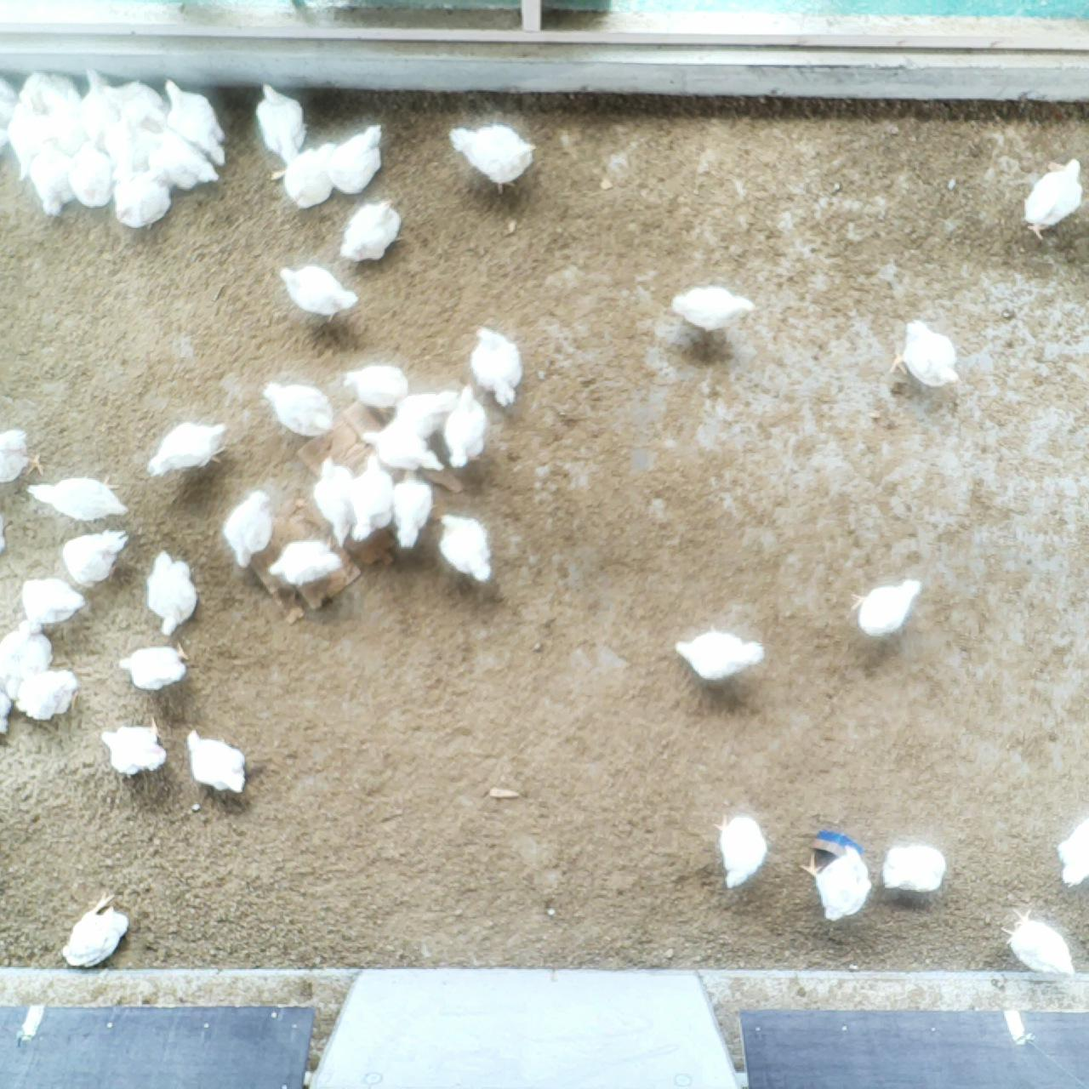chicken: (1001, 906, 1080, 988), (448, 124, 535, 192), (800, 844, 872, 924), (161, 78, 227, 165), (674, 626, 765, 686), (147, 419, 230, 483), (1021, 156, 1085, 239), (63, 892, 131, 970), (133, 126, 221, 185), (144, 549, 202, 636), (24, 67, 87, 147), (849, 577, 927, 641), (891, 316, 961, 387), (26, 476, 131, 522), (281, 262, 360, 323), (271, 141, 339, 211), (184, 724, 250, 795), (0, 616, 53, 704), (221, 486, 275, 570), (348, 453, 398, 541), (470, 326, 522, 410), (326, 123, 385, 197), (338, 197, 403, 263), (314, 454, 359, 549), (63, 528, 133, 589), (669, 285, 756, 334), (444, 384, 490, 476), (261, 380, 333, 438), (714, 811, 768, 888), (99, 716, 166, 778), (437, 511, 493, 585), (29, 132, 78, 216), (115, 640, 188, 693), (96, 117, 165, 173), (388, 470, 435, 552), (258, 83, 305, 164), (359, 429, 445, 473), (108, 173, 170, 234), (339, 362, 411, 414), (267, 538, 340, 589), (882, 843, 951, 896), (10, 94, 51, 183), (16, 666, 81, 722), (69, 135, 116, 212), (19, 577, 86, 627), (399, 387, 462, 439), (108, 78, 167, 130), (78, 70, 120, 140), (0, 428, 45, 484), (1058, 811, 1089, 890), (0, 69, 17, 111), (0, 681, 11, 740), (0, 102, 14, 145)
